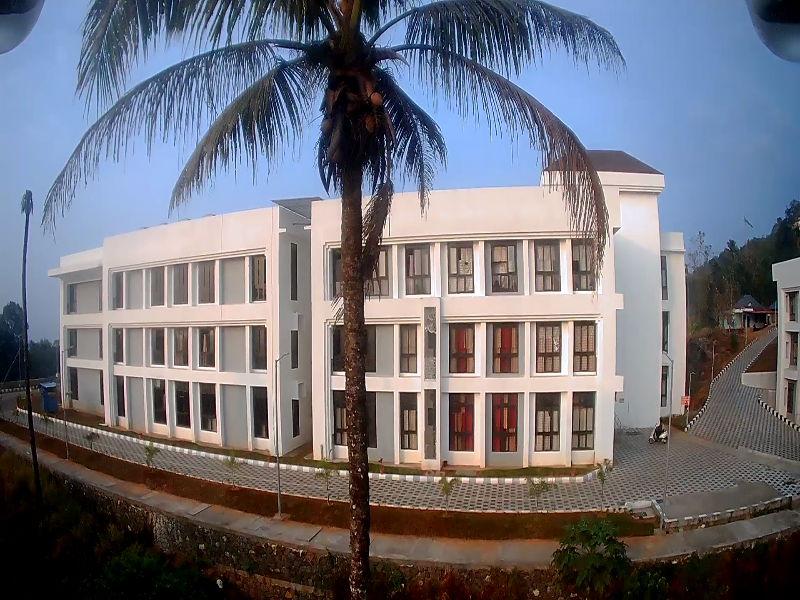coconut: (362, 118, 380, 140), (366, 92, 388, 108), (315, 119, 329, 138)
